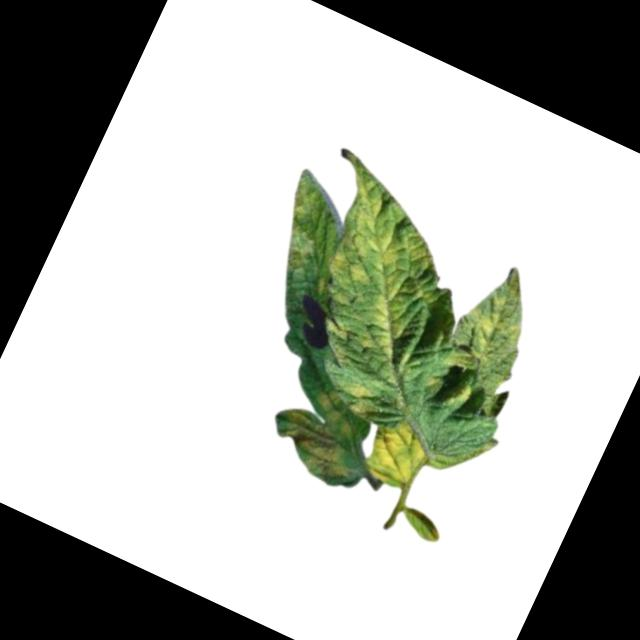Leaf_Mold: (275, 160, 483, 417), (437, 254, 554, 399), (267, 376, 383, 490), (262, 168, 349, 277), (360, 409, 445, 499)
